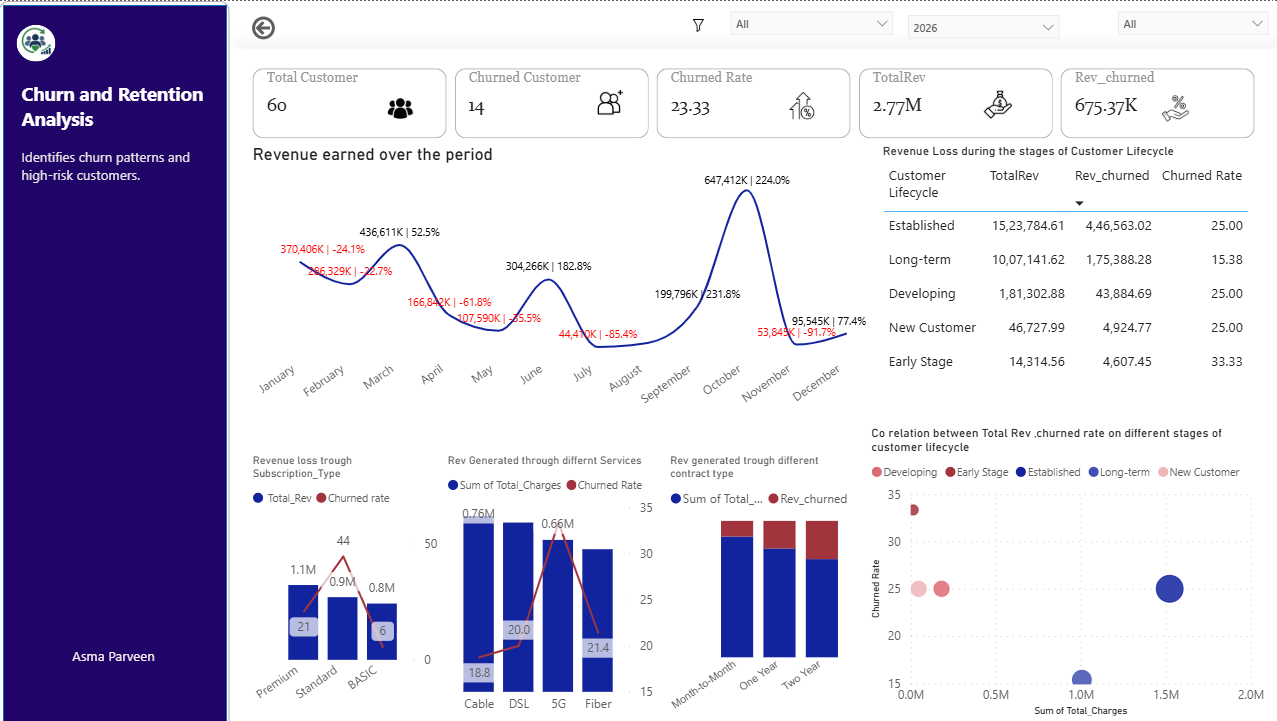

This screenshot's page, from the dashboard's own definition file:
{"tool":"powerbi","page":{"name":"Page 4","canvas":[1280,720],"ordinal":1},"visuals":[{"type":"shape","box":[230,47.1,1050,672.9],"z":0},{"type":"lineStackedColumnComboChart","title":"Revenue loss trough Subscription_Type","fields":{"Category":["Clean_Churn_Data.Subscription_Type"],"Y":["Sum(Clean_Churn_Data.Total_Charges)"],"Y2":["Measure.Churned Rate"]},"box":[248.7,452,194.7,268],"z":1000},{"type":"hundredPercentStackedColumnChart","title":"Rev generated trough different contract type","fields":{"Category":["Clean_Churn_Data.Contract_Type"],"Y":["Sum(Clean_Churn_Data.Total_Charges)","Measure.Rev_churned"]},"box":[666.7,452,196.7,268],"z":2000},{"type":"lineStackedColumnComboChart","title":"Rev Generated through differnt Services","fields":{"Category":["Clean_Churn_Data.Internet_Service"],"Y":["Sum(Clean_Churn_Data.Total_Charges)"],"Y2":["Measure.Churned Rate"]},"box":[443.3,452,215.3,268],"z":3000},{"type":"tableEx","fields":{"Values":["Clean_Churn_Data.Customer Lifecycle","Sum(Clean_Churn_Data.Total_Charges)"]},"box":[17.1,278.6,197.1,185.7],"z":4000},{"type":"tableEx","title":"Revenue Loss during  the stages of Customer Lifecycle","fields":{"Values":["Clean_Churn_Data.Customer Lifecycle","Measure.TotalRev","Measure.Rev_churned","Measure.Churned Rate"]},"box":[878.7,142,381.3,270],"z":5000},{"type":"scatterChart","title":"Co relation between Total Rev ,churned rate on different stages of customer lifecycle","fields":{"X":["Sum(Clean_Churn_Data.Total_Charges)"],"Y":["Measure.Churned Rate"],"Size":["Measure.Total Customer"],"Series":["Clean_Churn_Data.Customer Lifecycle"]},"box":[867.8,425.6,403.3,294.4],"z":6000},{"type":"shape","box":[0,0,230,1080],"z":7000},{"type":"cardVisual","fields":{"Data":["Measure.Total Customer","Measure.Churned Customer","Measure.Churned Rate","Measure.TotalRev","Measure.Rev_churned"]},"box":[248.9,62.2,1013.3,80],"z":8000},{"type":"shape","box":[18,24,39,37],"z":9000},{"type":"lineChart","title":"Revenue earned over the period","fields":{"Category":["DateTable.Date.Variation.Date Hierarchy.Month"],"Y":["Measure.TotalRev"]},"box":[248.7,142,623.3,283.3],"z":10000},{"type":"actionButton","box":[248.6,11.4,44.3,31.4],"z":11000},{"type":"textbox","box":[17.8,74.4,196.7,191.1],"z":12000},{"type":"textbox","box":[16.7,641.7,196.7,38.3],"z":13000},{"type":"image","box":[0,4.3,74.3,74.3],"z":14000},{"type":"image","box":[685,12,29,24],"z":15000},{"type":"image","box":[980,82,38,43],"z":16000},{"type":"image","box":[592,80,38,43],"z":17000},{"type":"image","box":[784,86,39,37],"z":18000},{"type":"image","box":[1157,86,38,43],"z":19000},{"type":"image","box":[382,86,38,43],"z":20000},{"type":"slicer","fields":{"Values":["Clean_Churn_Data.Gender"]},"box":[720.7,0,182.9,47.1],"z":21000},{"type":"slicer","fields":{"Values":["Clean_Churn_Data.City"]},"box":[1109.3,0,170.7,47.1],"z":22000},{"type":"slicer","fields":{"Values":["DateTable.Date.Variation.Date Hierarchy.Year"]},"box":[898.6,4.3,171.4,52.9],"z":23000}]}

Visuals, with their boxes in screenshot pixels (x1, y1, x2, y2), scaled from the page's 1280x720 canvas onto the 1277x721 screenshot:
shape: {"left": 229, "top": 47, "right": 1276, "bottom": 720}
"Revenue loss trough Subscription_Type" lineStackedColumnComboChart: {"left": 248, "top": 453, "right": 442, "bottom": 720}
"Rev generated trough different contract type" hundredPercentStackedColumnChart: {"left": 665, "top": 453, "right": 861, "bottom": 720}
"Rev Generated through differnt Services" lineStackedColumnComboChart: {"left": 442, "top": 453, "right": 657, "bottom": 720}
tableEx - Clean_Churn_Data.Customer Lifecycle x Sum(Clean_Churn_Data.Total_Charges): {"left": 17, "top": 279, "right": 214, "bottom": 465}
"Revenue Loss during  the stages of Customer Lifecycle" tableEx: {"left": 877, "top": 142, "right": 1257, "bottom": 413}
"Co relation between Total Rev ,churned rate on different stages of customer lifecycle" scatterChart: {"left": 866, "top": 426, "right": 1268, "bottom": 720}
shape: {"left": 0, "top": 0, "right": 229, "bottom": 720}
cardVisual - Measure.Total Customer x Measure.Churned Customer: {"left": 248, "top": 62, "right": 1259, "bottom": 142}
shape: {"left": 18, "top": 24, "right": 57, "bottom": 61}
"Revenue earned over the period" lineChart: {"left": 248, "top": 142, "right": 870, "bottom": 426}
actionButton: {"left": 248, "top": 11, "right": 292, "bottom": 43}
textbox: {"left": 18, "top": 75, "right": 214, "bottom": 266}
textbox: {"left": 17, "top": 643, "right": 213, "bottom": 681}
image: {"left": 0, "top": 4, "right": 74, "bottom": 79}
image: {"left": 683, "top": 12, "right": 712, "bottom": 36}
image: {"left": 978, "top": 82, "right": 1016, "bottom": 125}
image: {"left": 591, "top": 80, "right": 629, "bottom": 123}
image: {"left": 782, "top": 86, "right": 821, "bottom": 123}
image: {"left": 1154, "top": 86, "right": 1192, "bottom": 129}
image: {"left": 381, "top": 86, "right": 419, "bottom": 129}
slicer - Clean_Churn_Data.Gender: {"left": 719, "top": 0, "right": 901, "bottom": 47}
slicer - Clean_Churn_Data.City: {"left": 1107, "top": 0, "right": 1276, "bottom": 47}
slicer - DateTable.Date.Variation.Date Hierarchy.Year: {"left": 896, "top": 4, "right": 1067, "bottom": 57}
